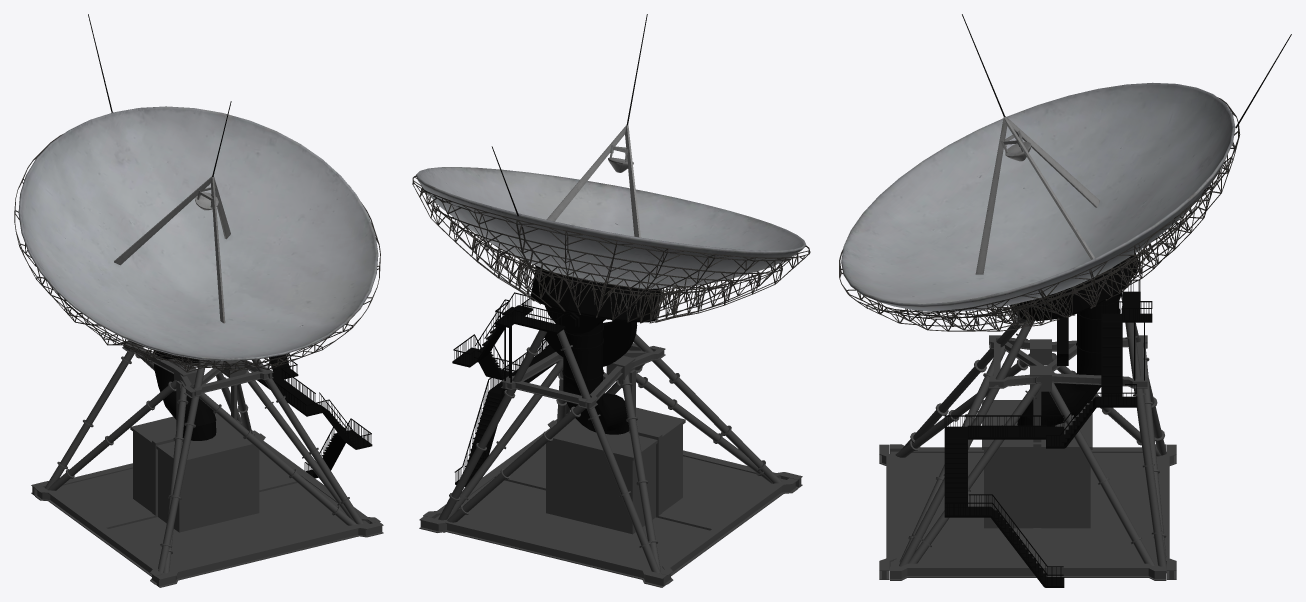
Rendered from antenna.glb.
3 renders of one model, left to right at view 1: azimuth 30°, elevation 25°; view 2: azimuth 150°, elevation 25°; view 3: azimuth 270°, elevation 25°, orthographic. The views are drawn at different scales.
Visible parts, largest first — view 1: AM227_009.002, AM227_009.001, AM227_009; view 2: AM227_009.001, AM227_009.002, AM227_009; view 3: AM227_009.002, AM227_009.001, AM227_009.
Boxes of the visible parts, <box> form: AM227_009.002: <box>14,14,380,375</box>; AM227_009.001: <box>31,340,383,587</box>; AM227_009: <box>154,350,372,478</box>; AM227_009.001: <box>419,320,802,587</box>; AM227_009.002: <box>412,14,810,323</box>; AM227_009: <box>452,265,661,486</box>; AM227_009.002: <box>839,14,1291,331</box>; AM227_009.001: <box>879,294,1176,580</box>; AM227_009: <box>944,253,1152,587</box>.
Size of the model in its own units: 13.5 by 17.58 by 14.29.
3 materials, 1 textured.
